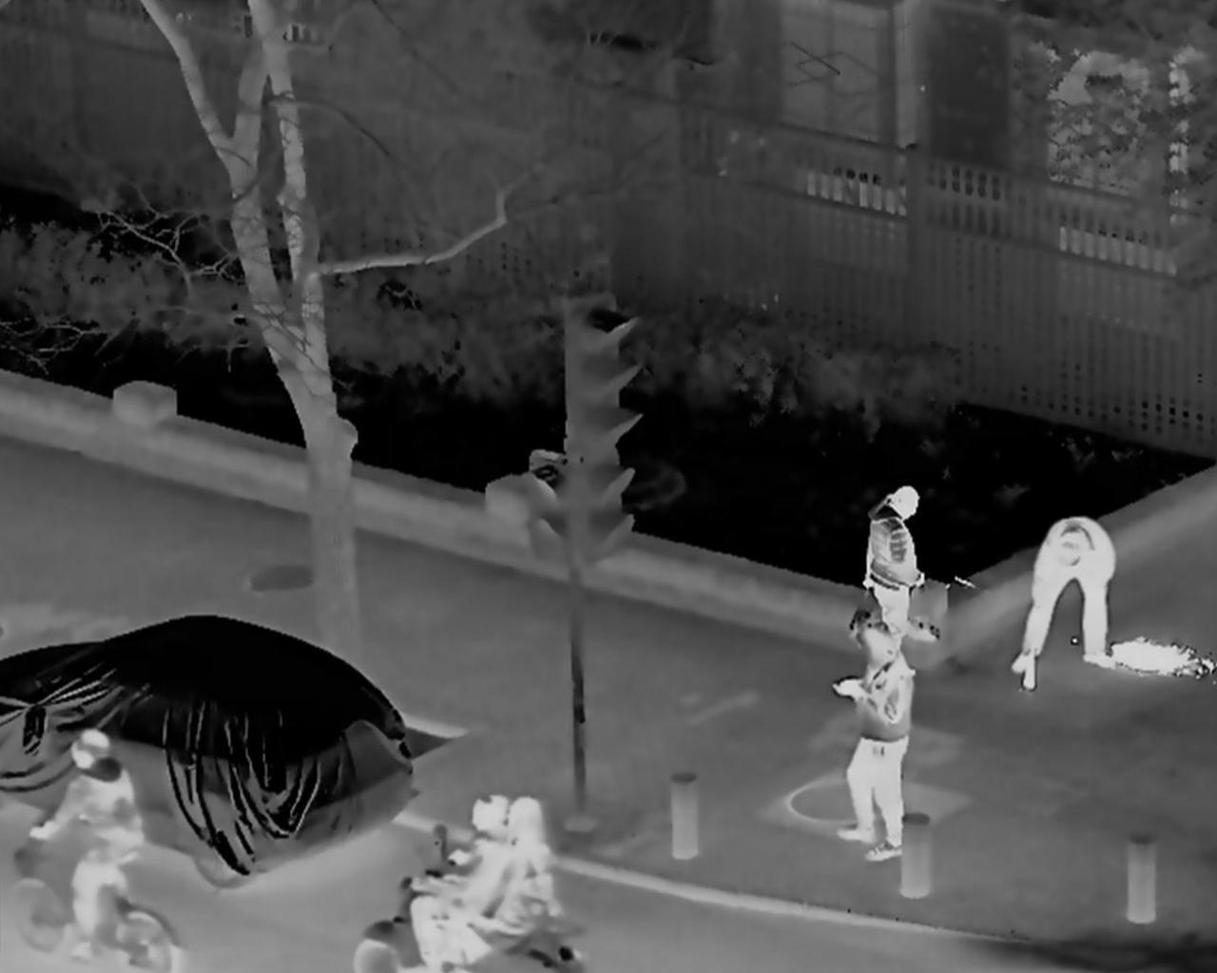person: (31, 730, 143, 961), (1012, 510, 1119, 695), (446, 798, 559, 969), (840, 619, 914, 865), (405, 793, 506, 970), (858, 487, 925, 681)
